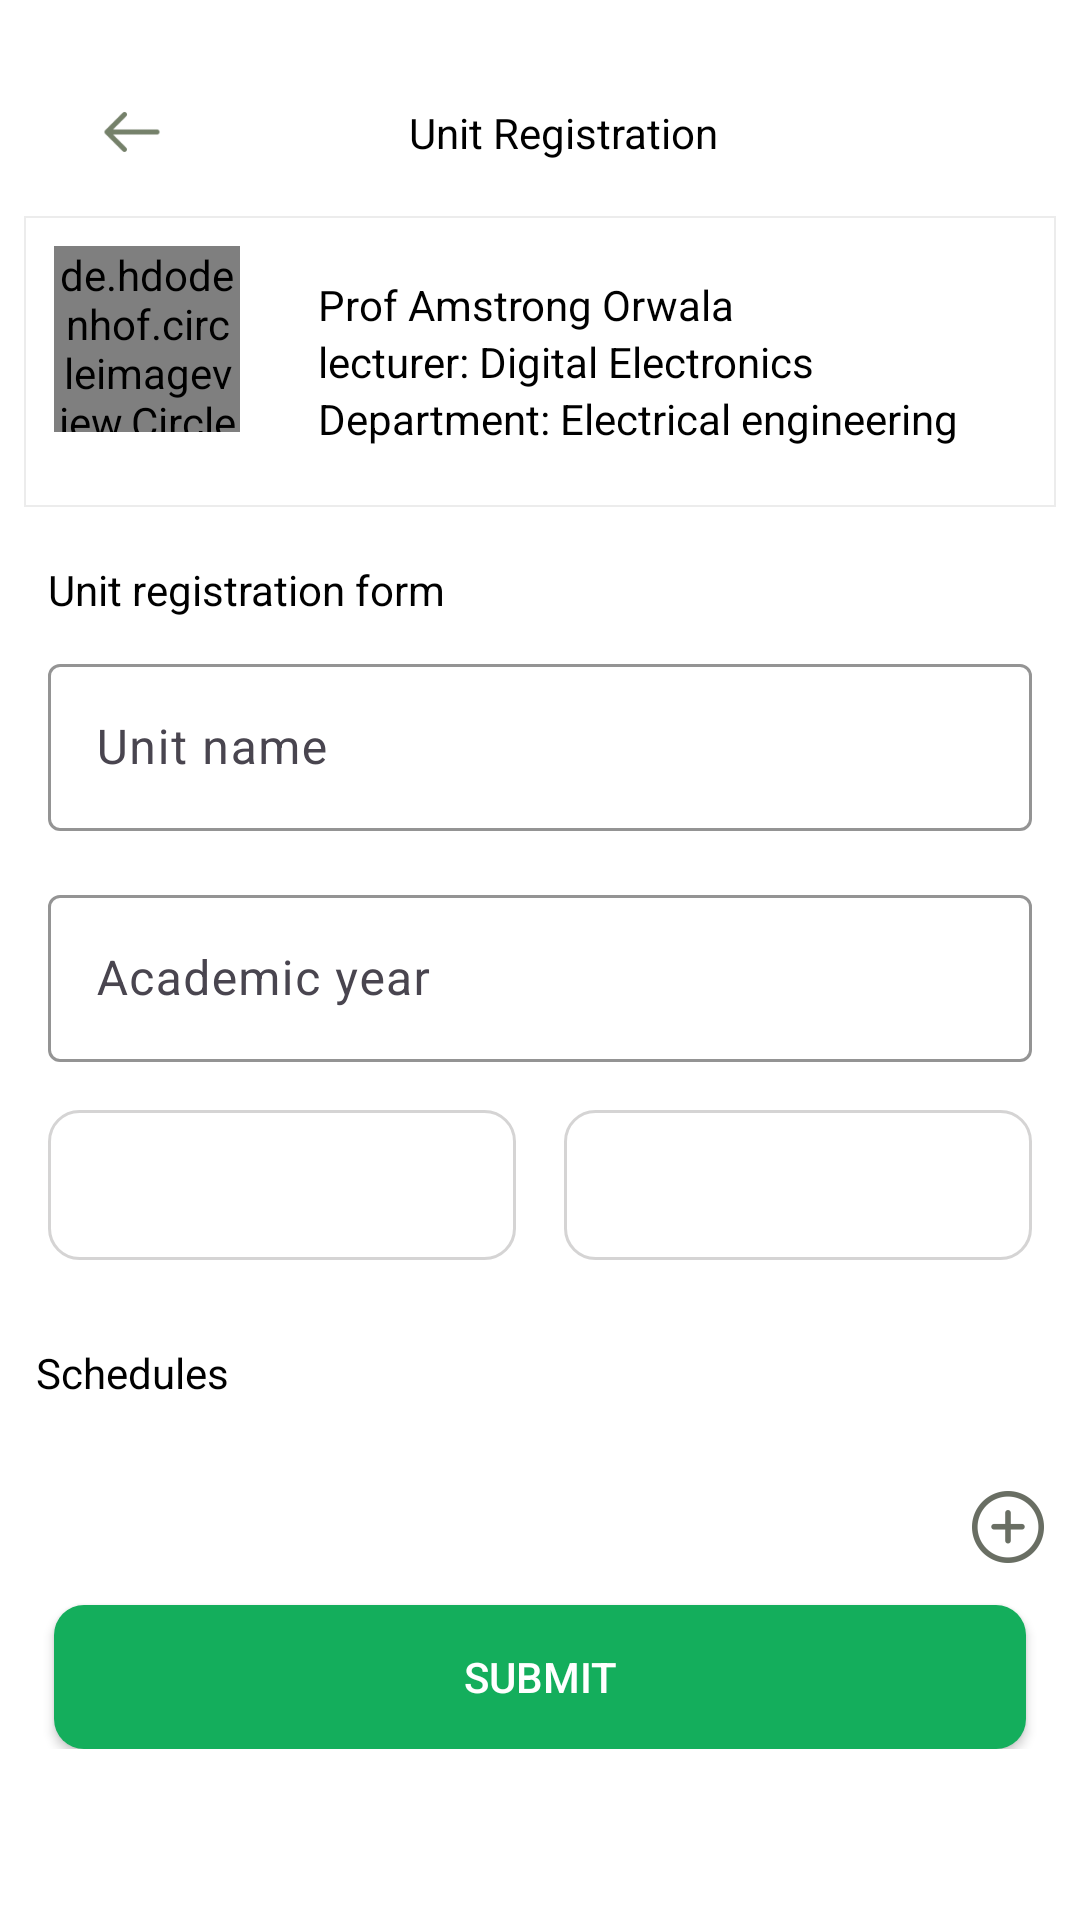

Screen size 1080×1920. Icon name, then its center in pixels as point (x, y):
back arrow: point (132, 132)
plus: point (1008, 1527)
